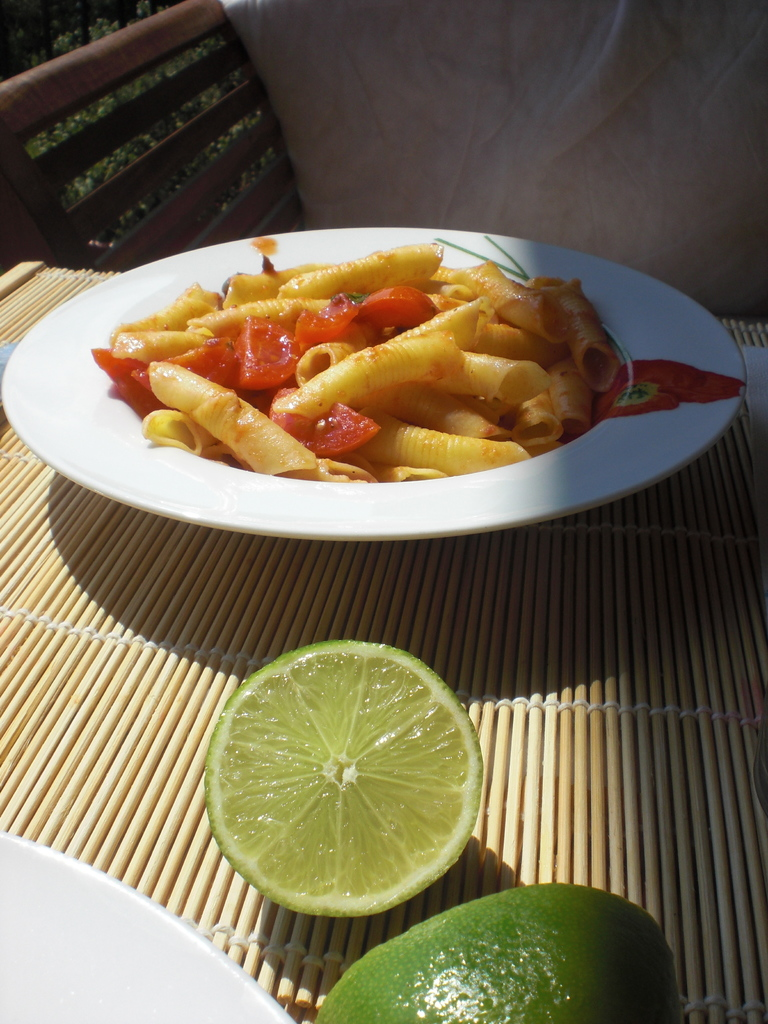pasta: (86, 236, 623, 478)
